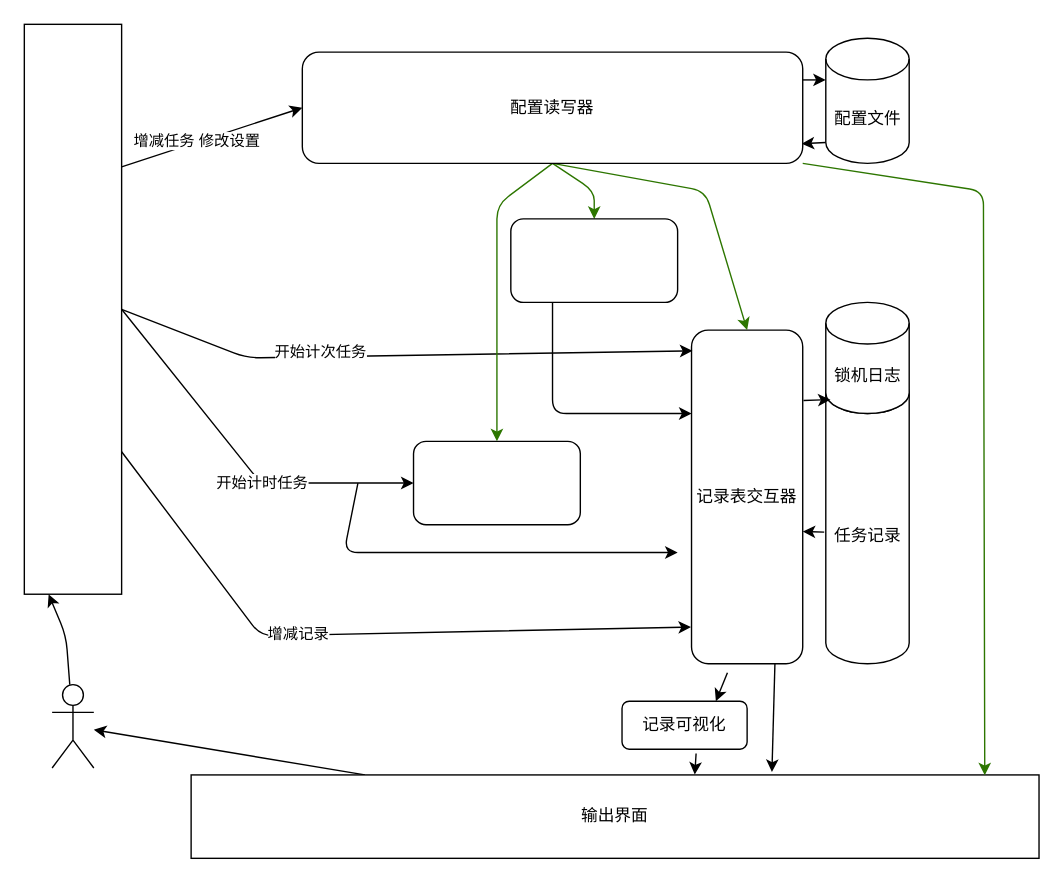
Image size: 1063x883. Some labels were removed from this diagram. Here are the shapes that lost their labels. From the top down, the centre of each, then its label:
the point at 593,260: 锁机器
the point at 72,308: 输入界面
the point at 496,482: 任务计时器
